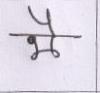ai_matra: (27, 6, 60, 35)
